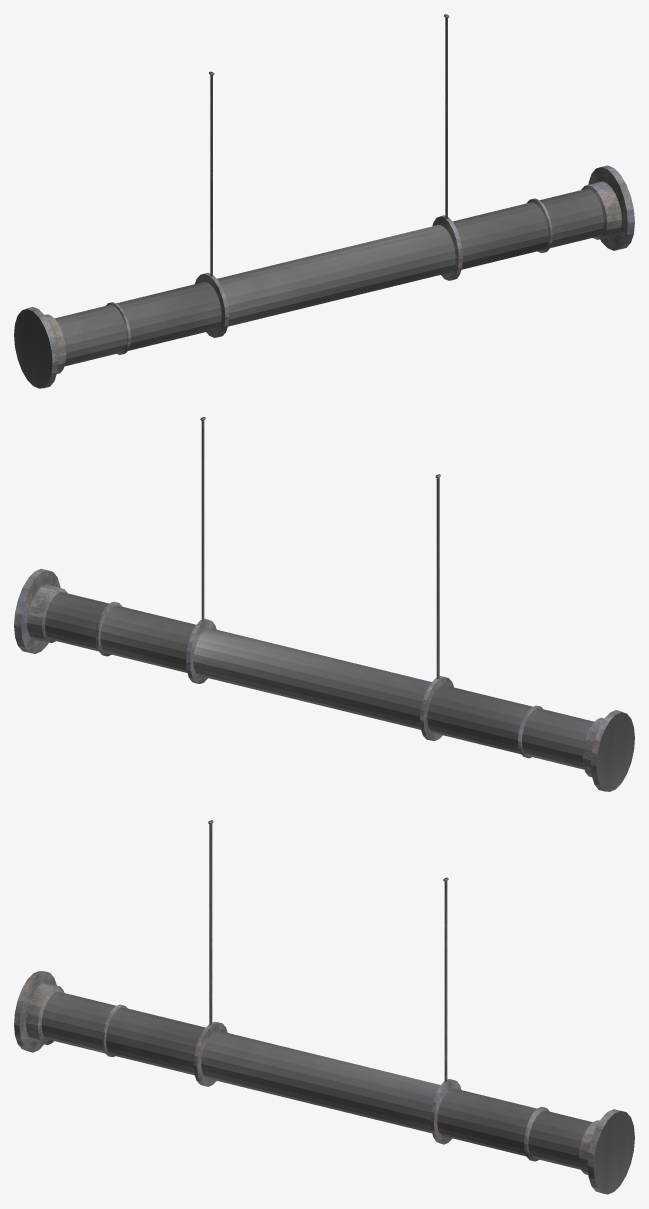
Rendered from pipea.fbx.
3 renders of one model, top to bottom at view 1: azimuth 30°, elevation 25°; view 2: azimuth 150°, elevation 25°; view 3: azimuth 330°, elevation 25°, orthographic.
Visible parts, largest first — view 1: pCylinder1, pCylinder4, pCylinder3; view 2: pCylinder1, pCylinder4, pCylinder3; view 3: pCylinder1, pCylinder4, pCylinder3.
Boxes of the visible parts, x1,y1,x2,y2 form: pCylinder1: [14, 165, 634, 388]; pCylinder4: [209, 71, 214, 276]; pCylinder3: [444, 14, 449, 218]; pCylinder1: [14, 568, 634, 791]; pCylinder4: [435, 474, 440, 679]; pCylinder3: [200, 417, 205, 621]; pCylinder1: [14, 971, 634, 1194]; pCylinder4: [208, 820, 213, 1025]; pCylinder3: [443, 877, 448, 1082].
Bounding box in the file's own units: 27.23 × 12.19 × 3.36.
Materials: 2 (2 with a texture image).
